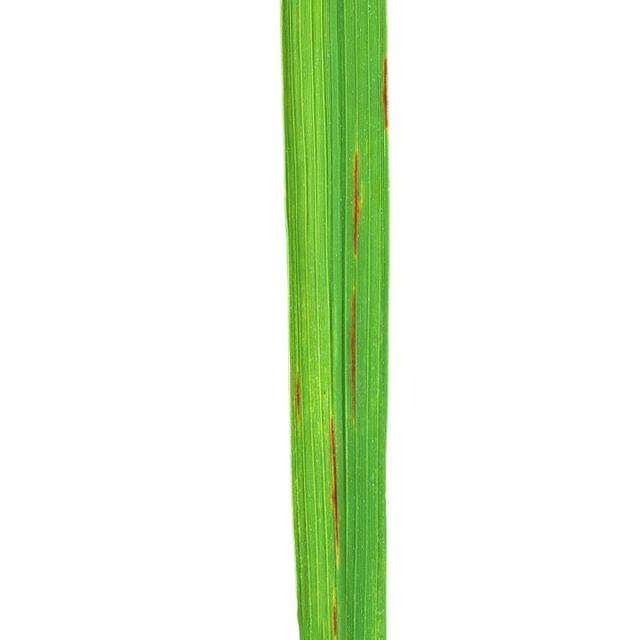Narrow brown: (250, 1, 488, 640)
